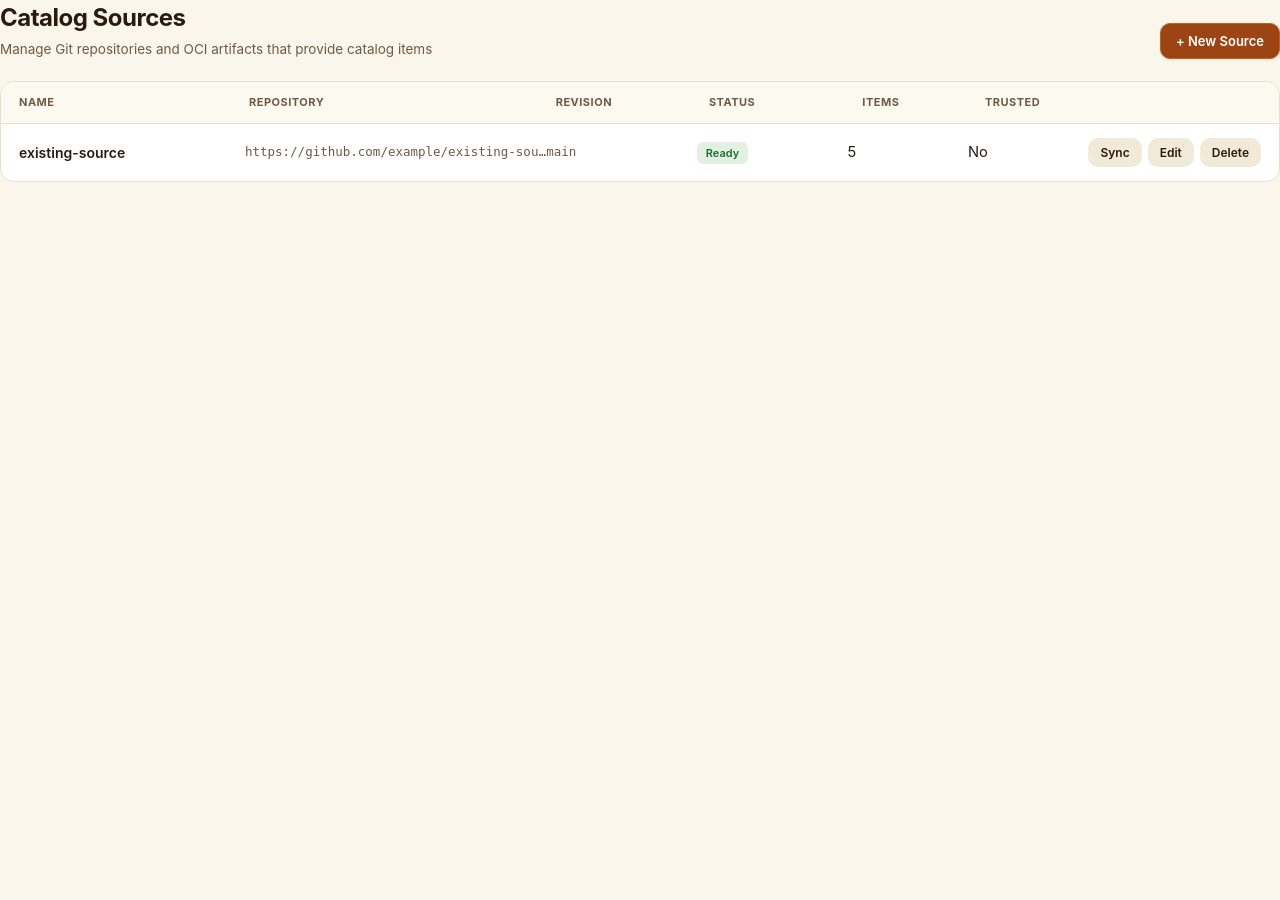
Scenario: CatalogSources › Create dialog › opens the create dialog when clicking 'New Source'
Click the button "+ New Source": click(1220, 41) [1160,23,1279,59]
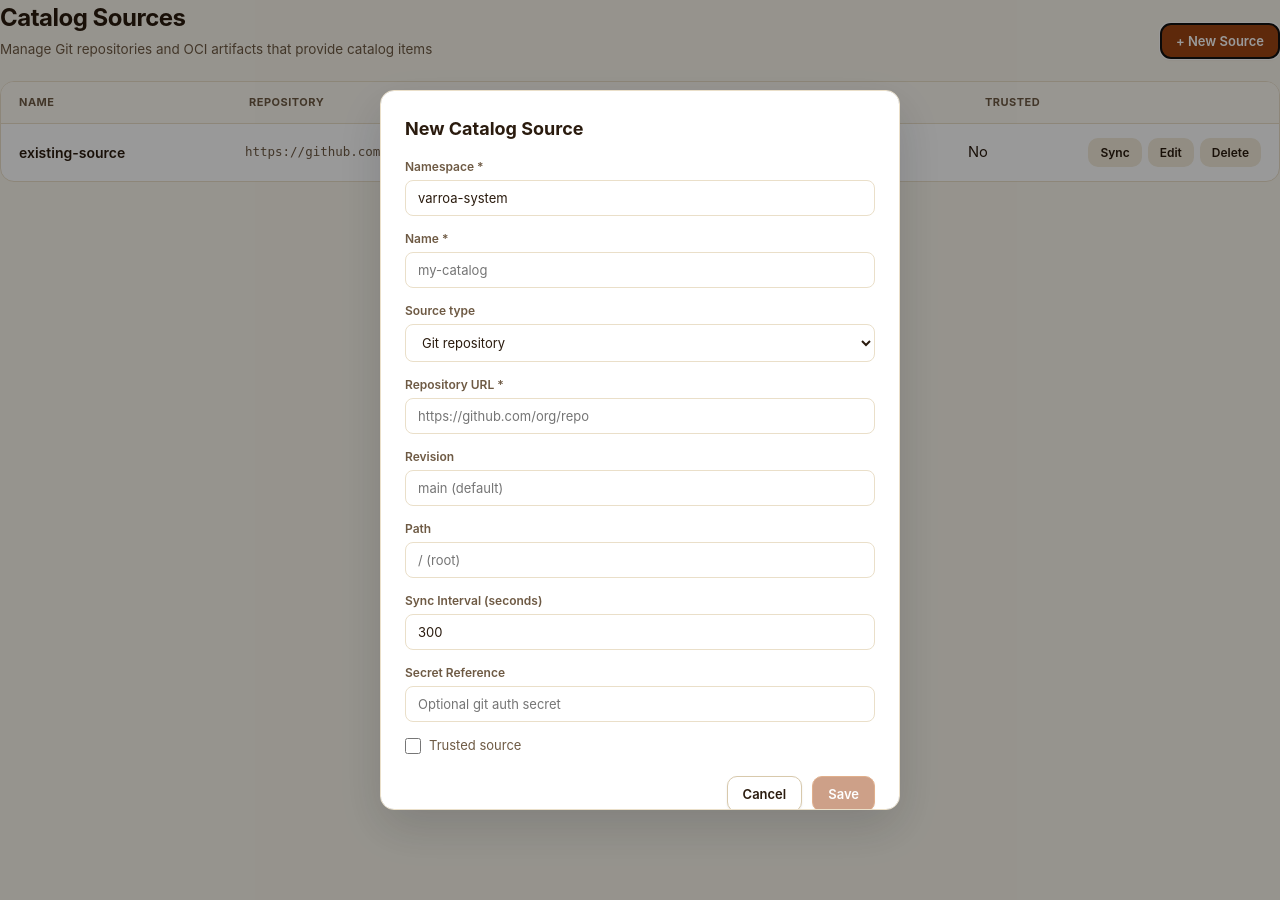
Expected: the text "New Catalog Source" is shown, [405,118,584,139]
Expected: the field with placeholder "https://github.com/org/repo" is shown, [405,398,875,434]
